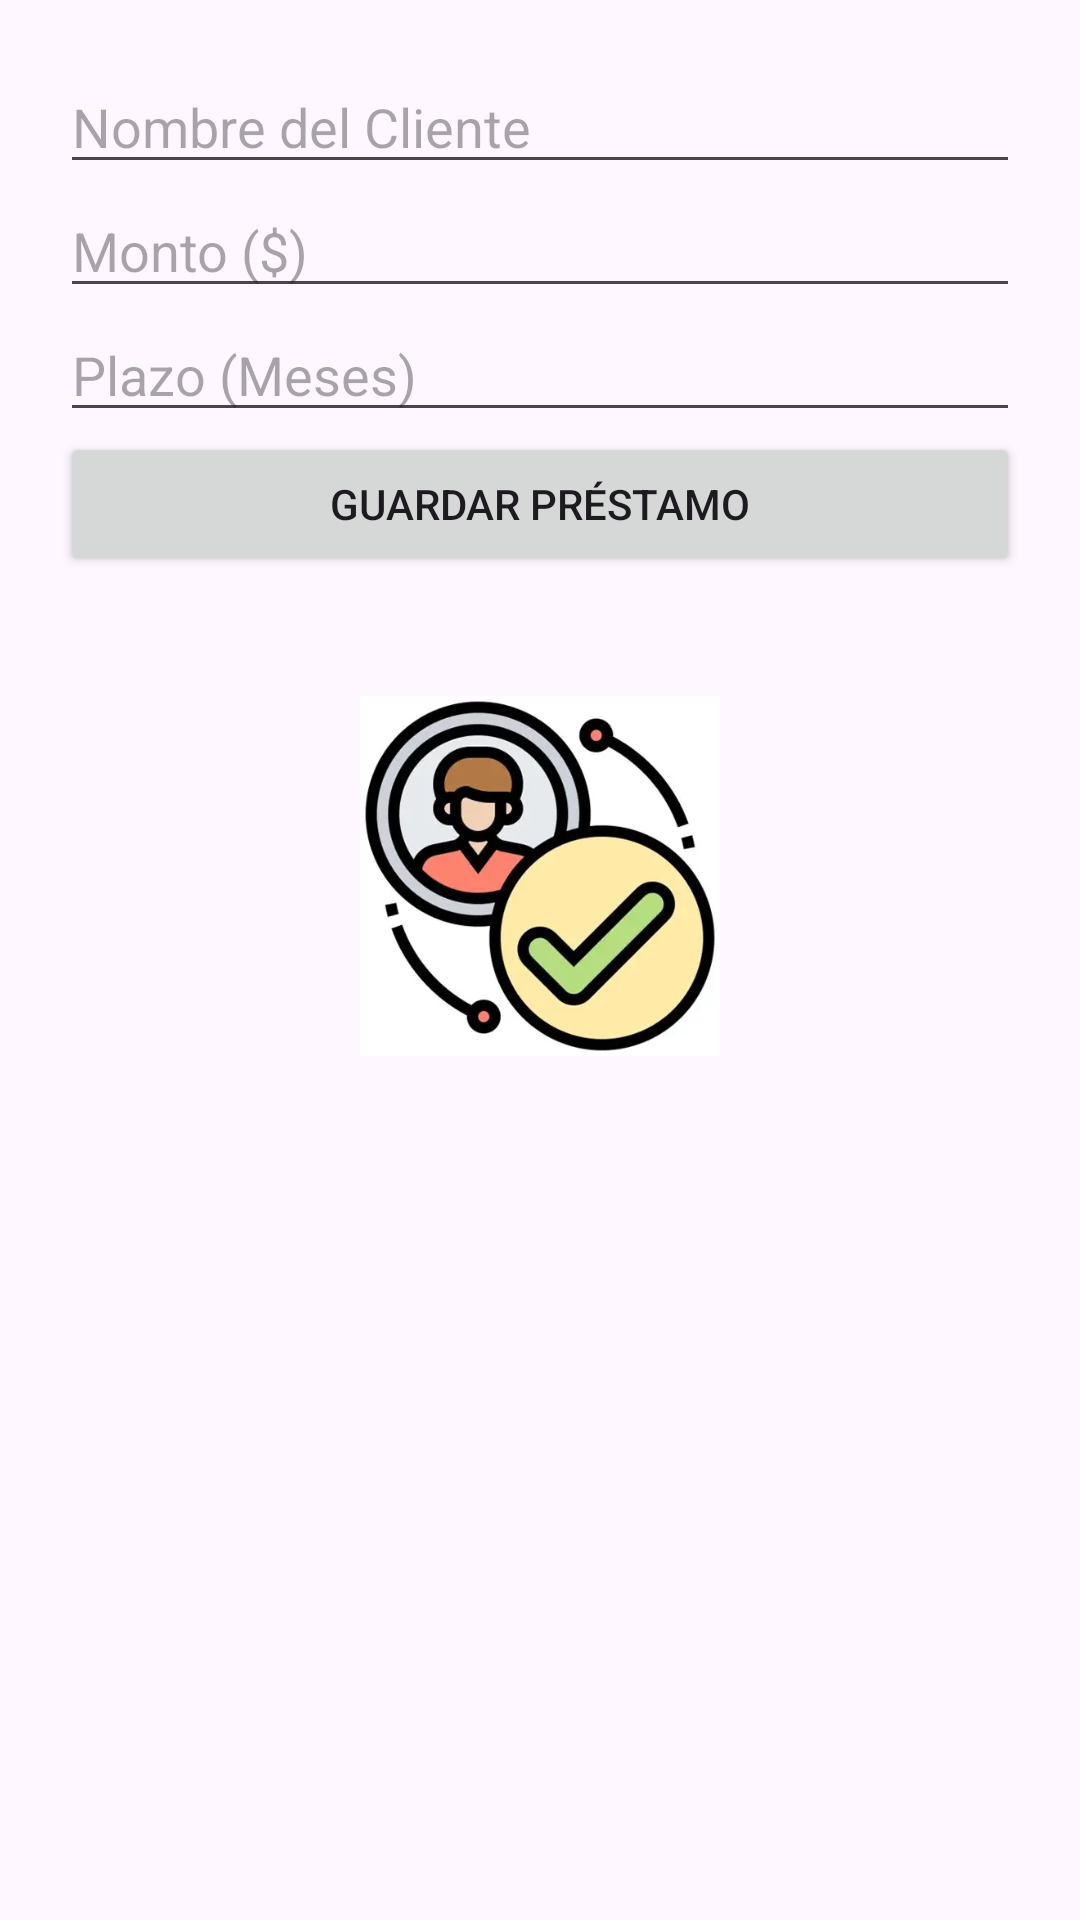

Named icons in this screenshot (1080×1920) and their bounding boxes, (x1, y1, x2, y2):
Cliente: (365, 701, 715, 1051)
